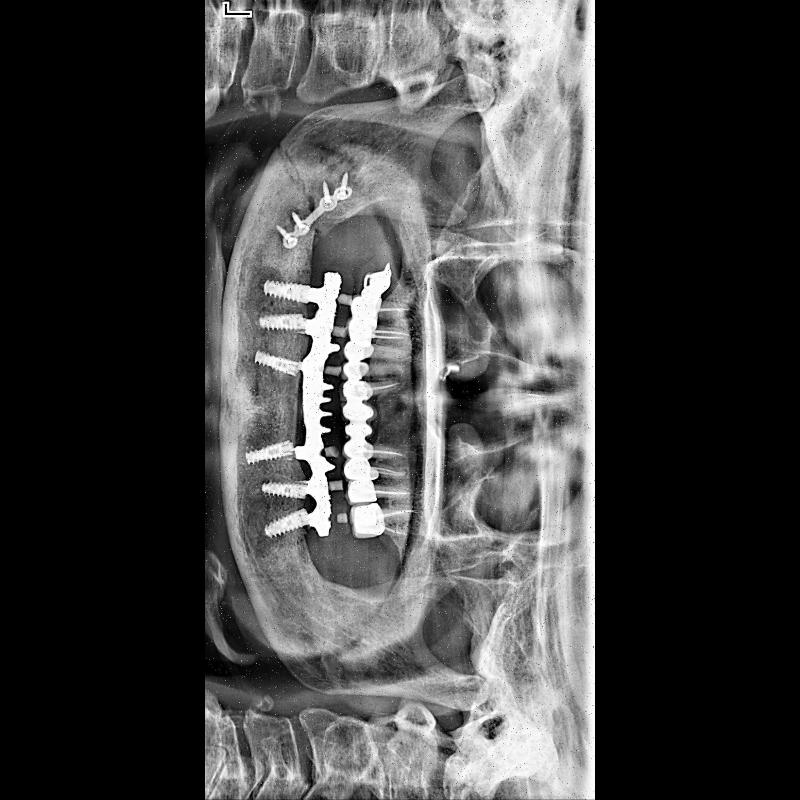NORIS: (260, 510, 310, 540), (242, 441, 294, 467), (262, 278, 310, 306), (258, 310, 304, 338), (251, 350, 299, 376), (259, 477, 307, 501)
